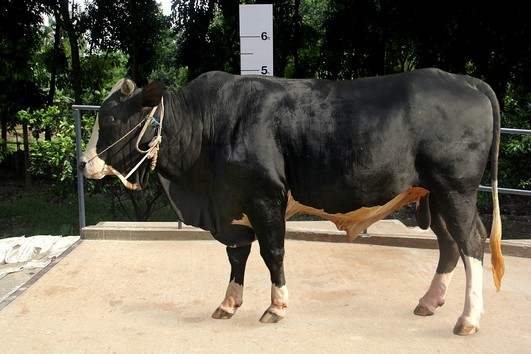cow: (71, 69, 504, 336)
